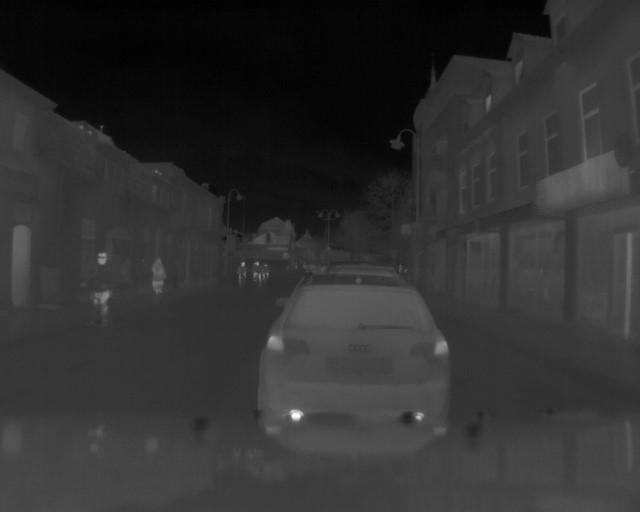car: (259, 265, 456, 413)
person: (86, 250, 116, 302), (148, 254, 167, 295), (235, 260, 249, 285), (251, 260, 263, 287)
